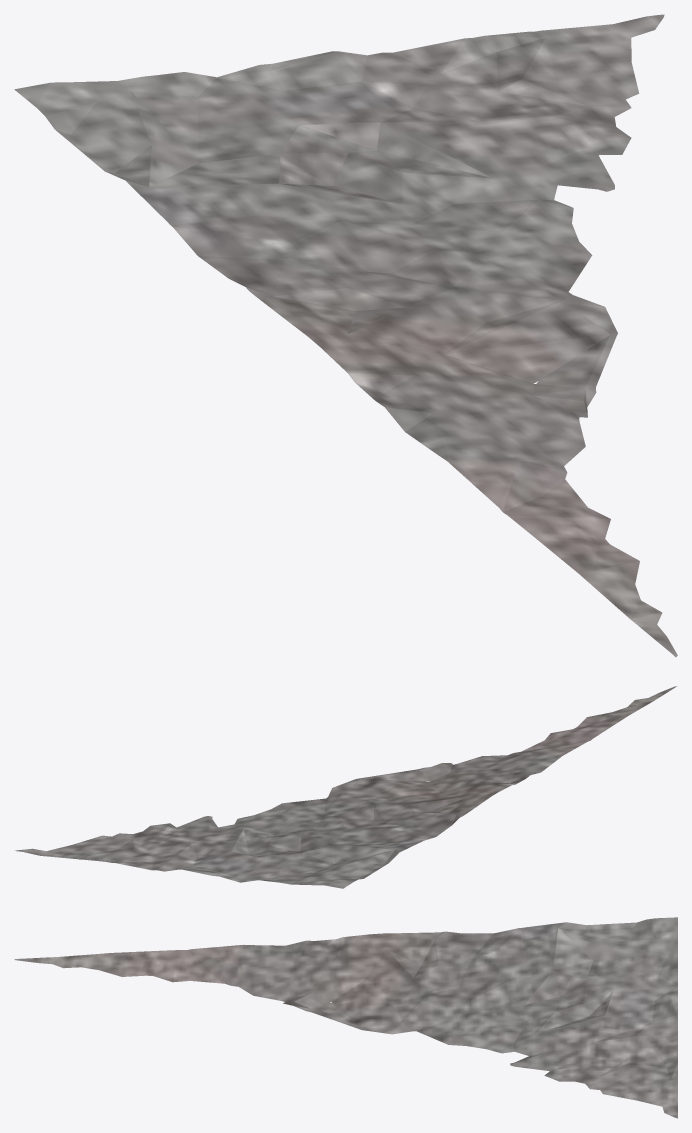
3 views of the same model, one above another, from view 1: azimuth 30°, elevation 25°; view 2: azimuth 150°, elevation 25°; view 3: azimuth 270°, elevation 25° (orthographic). The views are drawn at different scales.
Size of the model in its own units: 0.6041 by 0.0744 by 1.06.
Materials: 1 (1 with a texture image).
